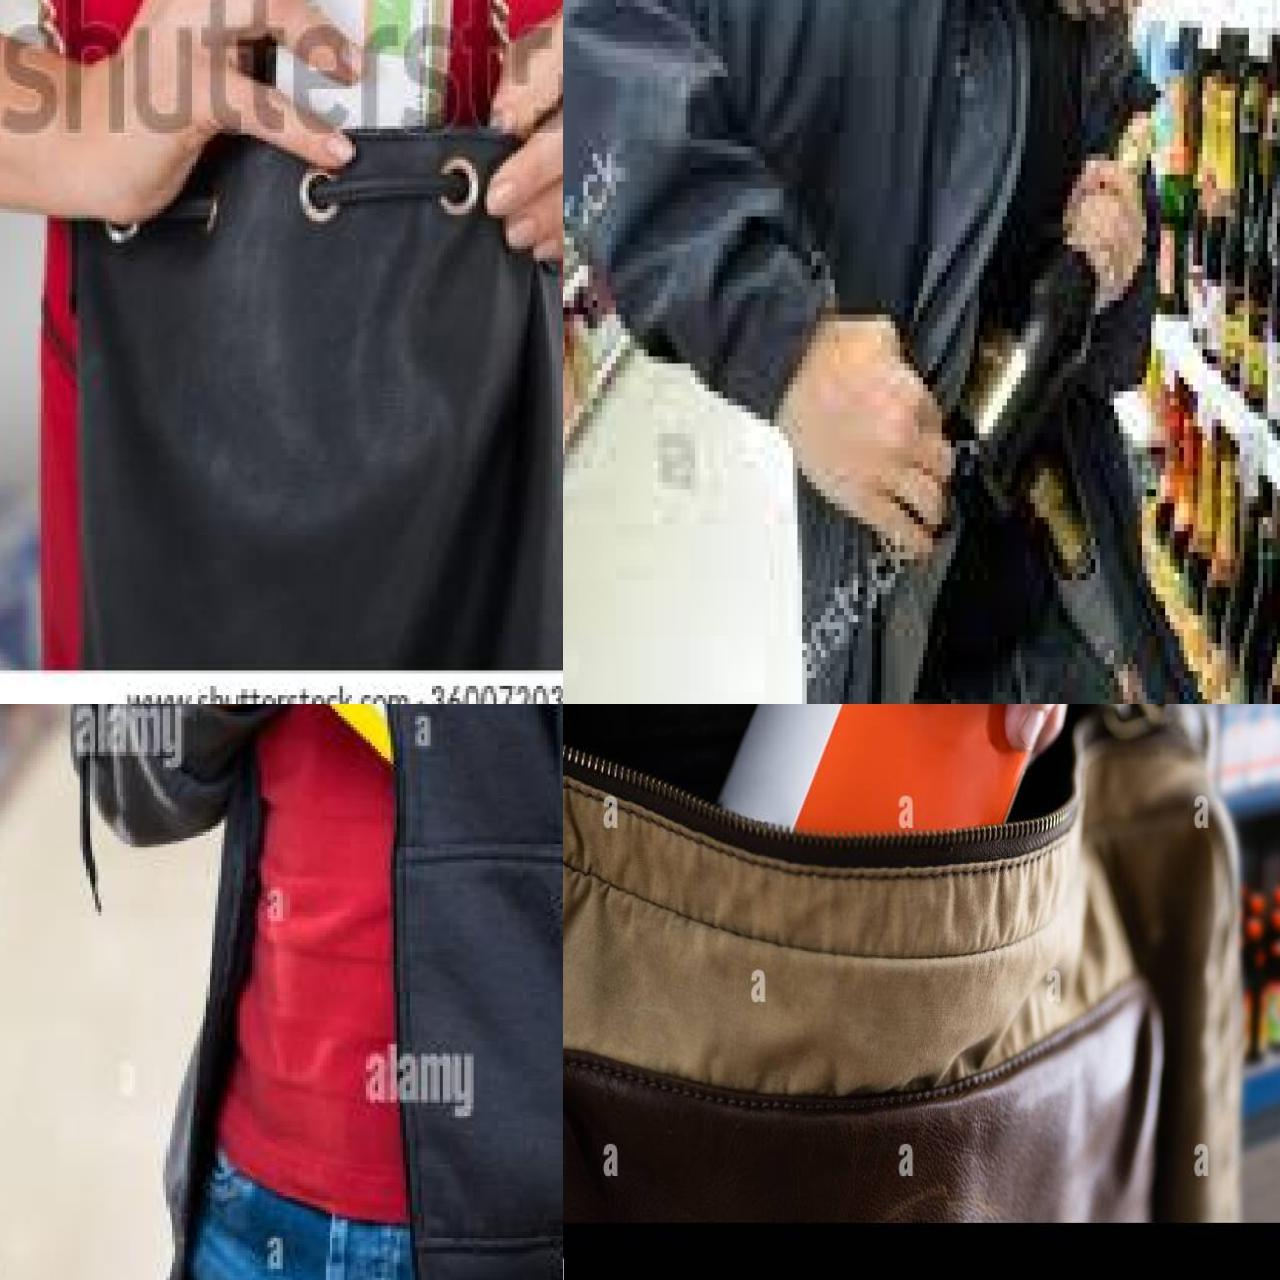Shoplifting: (745, 0, 1280, 704), (0, 0, 563, 665), (626, 704, 1280, 1227), (811, 0, 1280, 704), (0, 704, 563, 1262)
